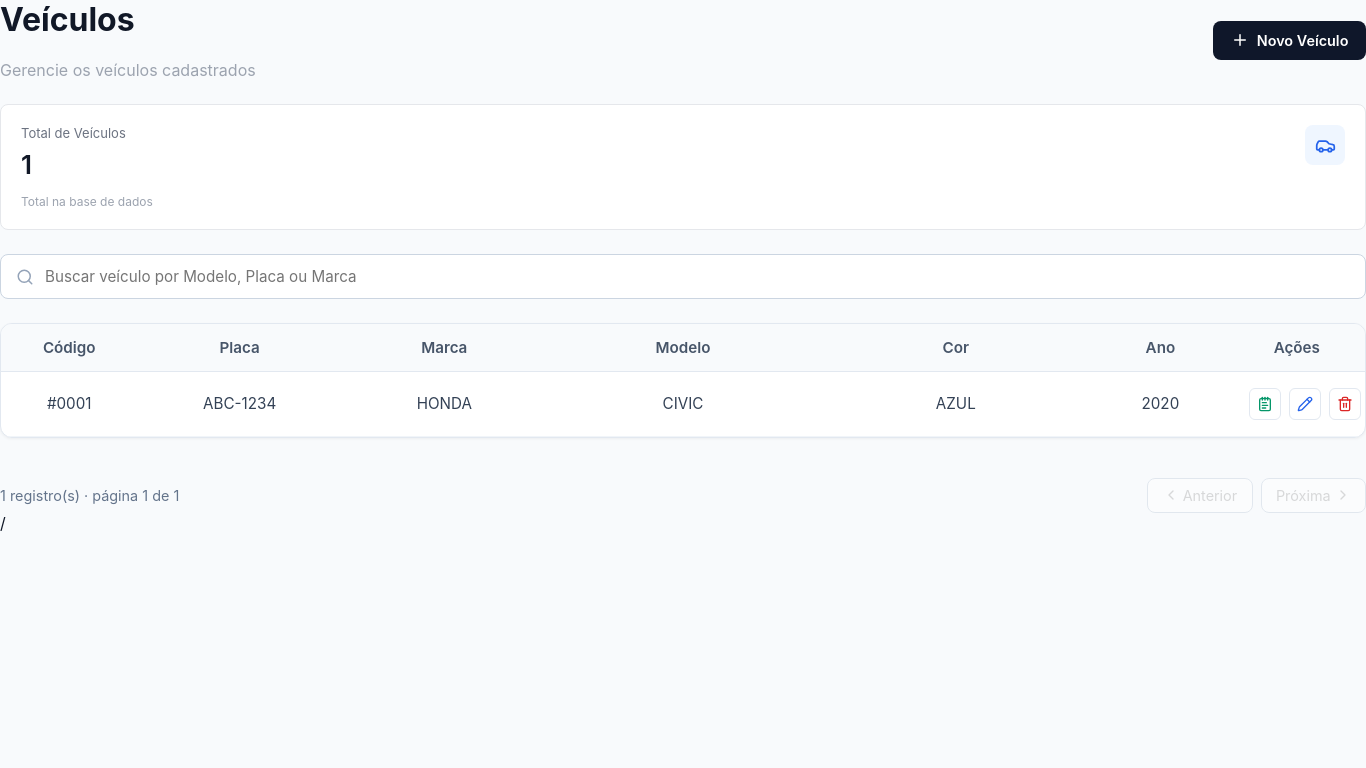
it: Página de Veículos › excluir pede confirmação e remove o veículo da lista
This screenshot has width=1366, height=768.
Check: the text "ABC-1234" is shown, box [137,371,342,436]
Click the button titled "Excluir veículo". click: coordinates (1345, 404)
box: [1329,388,1361,420]
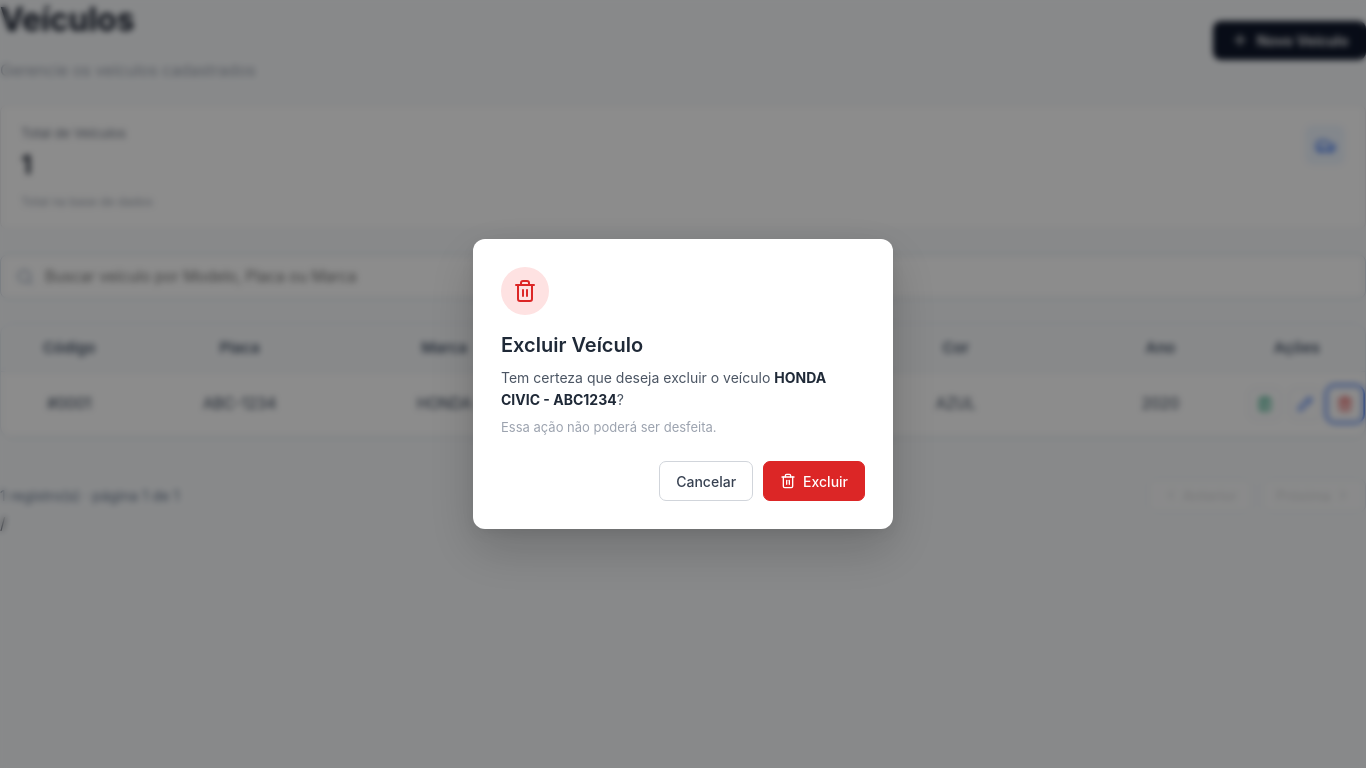
Click the button "Excluir". click: coordinates (814, 481)
box: [763,461,865,501]
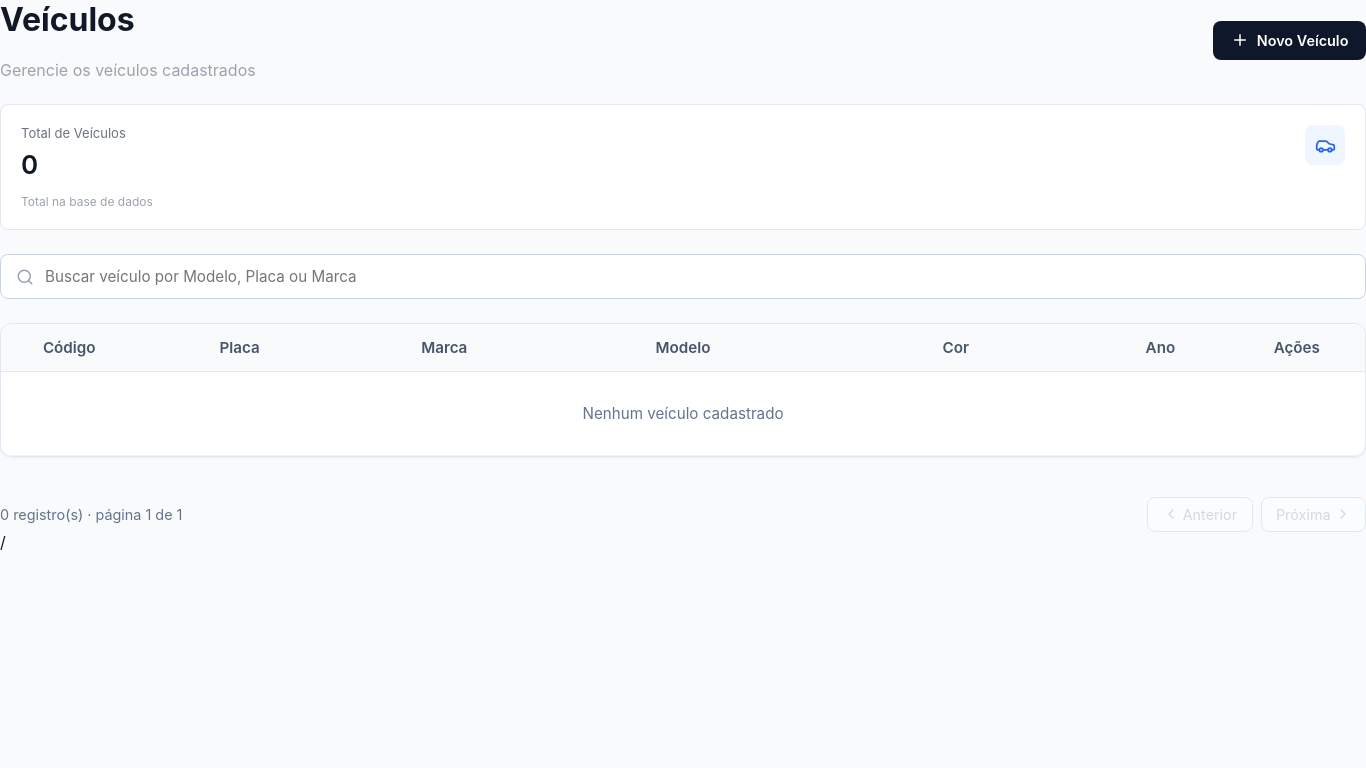
Check: the text "Nenhum veículo cadastrado" is shown, box [1,371,1365,455]
